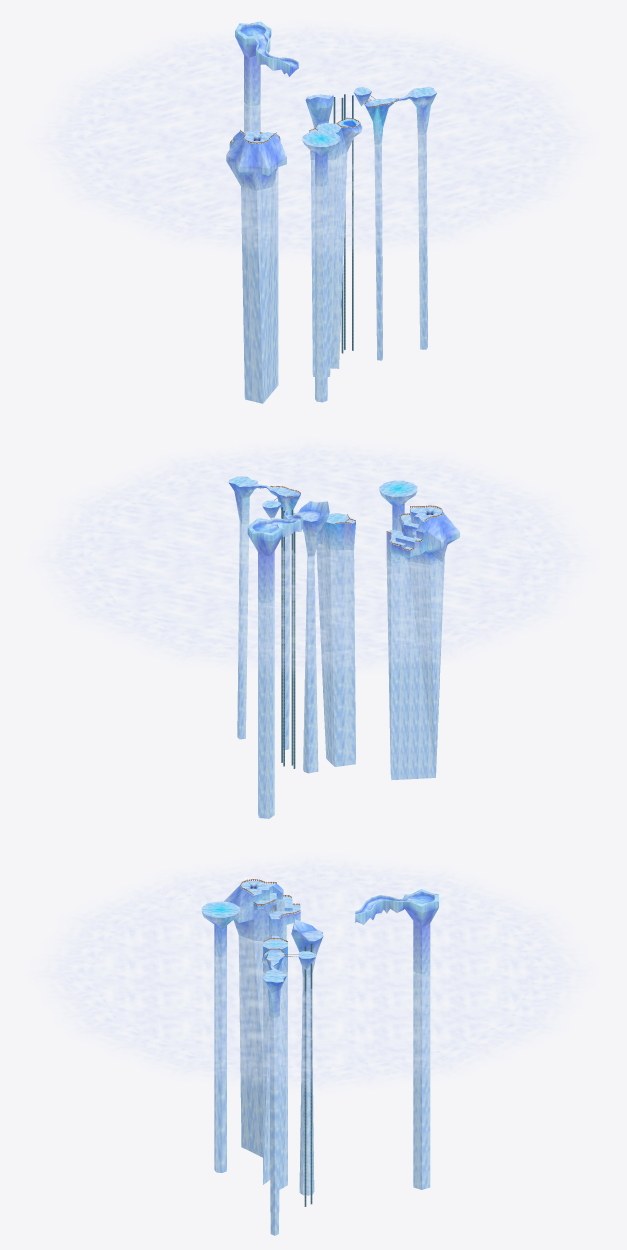
File: ex_w_map_all.glb
The picture shows the model from 3 angles, top to bottom: view 1: azimuth 30°, elevation 25°; view 2: azimuth 150°, elevation 25°; view 3: azimuth 270°, elevation 25°; orthographic projection.
Parts seen in each view (by area): view 1: ex_w_map_all; view 2: ex_w_map_all; view 3: ex_w_map_all.
Part boxes in pixels (x1,y1,x2,y2): ex_w_map_all: (41,21,585,403); ex_w_map_all: (41,443,585,818); ex_w_map_all: (41,858,585,1235).
Size of the model in its own units: 60 by 32.08 by 60.
Materials: 8 (8 with a texture image).
